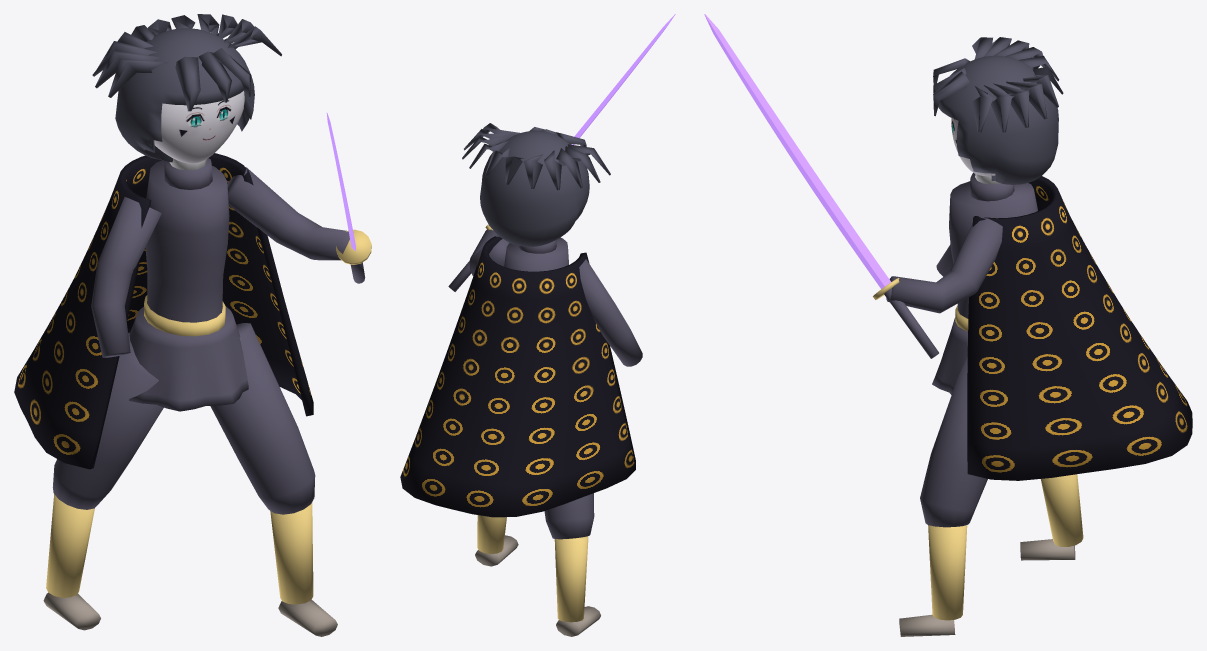
Rendered from kaigaku.glb.
3 views of the same model, side by side, from view 1: azimuth 30°, elevation 25°; view 2: azimuth 150°, elevation 25°; view 3: azimuth 270°, elevation 25° (orthographic). The views are drawn at different scales.
Parts seen in each view (by area): view 1: KaigakuVest, Torso, LegR_P, HipHem, HairCrown, LegL_P, ArmL, ArmR, Head, LegR_W, LegL_W, FootR (+12 smaller); view 2: KaigakuVest, HairCrown, ArmL, LegL_W, LegL_P, Torso, LegR_W, ArmR, DarkBlade_blade, FootL, FootR, Spike_2 (+1 smaller); view 3: KaigakuVest, HairCrown, LegR_P, ArmR, DarkBlade_blade, LegR_W, Torso, LegL_W, HipHem, FootR, FootL, DarkBlade_hilt (+1 smaller).
Boxes of the visible parts, box(x1,y1,x2,y2) form: KaigakuVest: box(14, 153, 313, 469); Torso: box(145, 160, 229, 322); LegR_P: box(210, 323, 315, 514); HipHem: box(129, 306, 248, 411); HairCrown: box(115, 28, 254, 162); LegL_P: box(52, 332, 163, 509); ArmL: box(91, 197, 161, 357); ArmR: box(227, 167, 349, 260); Head: box(154, 90, 244, 163); LegR_W: box(270, 502, 313, 604); LegL_W: box(46, 494, 94, 597); FootR: box(278, 599, 337, 636); KaigakuVest: box(400, 235, 635, 517); HairCrown: box(480, 131, 589, 246); ArmL: box(579, 259, 642, 366); LegL_W: box(554, 536, 588, 622); LegL_P: box(544, 493, 594, 539); Torso: box(504, 237, 568, 271); LegR_W: box(477, 515, 506, 553); ArmR: box(469, 229, 508, 275); DarkBlade_blade: box(571, 14, 675, 144); FootL: box(556, 606, 600, 636); FootR: box(475, 535, 518, 566); Spike_2: box(556, 148, 582, 188); KaigakuVest: box(967, 176, 1192, 480); HairCrown: box(938, 55, 1058, 184); LegR_P: box(920, 357, 987, 527); ArmR: box(886, 216, 1002, 313); DarkBlade_blade: box(704, 14, 890, 288); LegR_W: box(928, 525, 967, 620); Torso: box(949, 181, 1037, 318); LegL_W: box(1041, 474, 1083, 546); HipHem: box(932, 317, 967, 394); FootR: box(899, 614, 955, 636); FootL: box(1020, 539, 1075, 560); DarkBlade_hilt: box(884, 288, 938, 358).
Bounding box in the file's own units: 0.905 × 2 × 1.54.
Materials: 8 (2 with a texture image).
